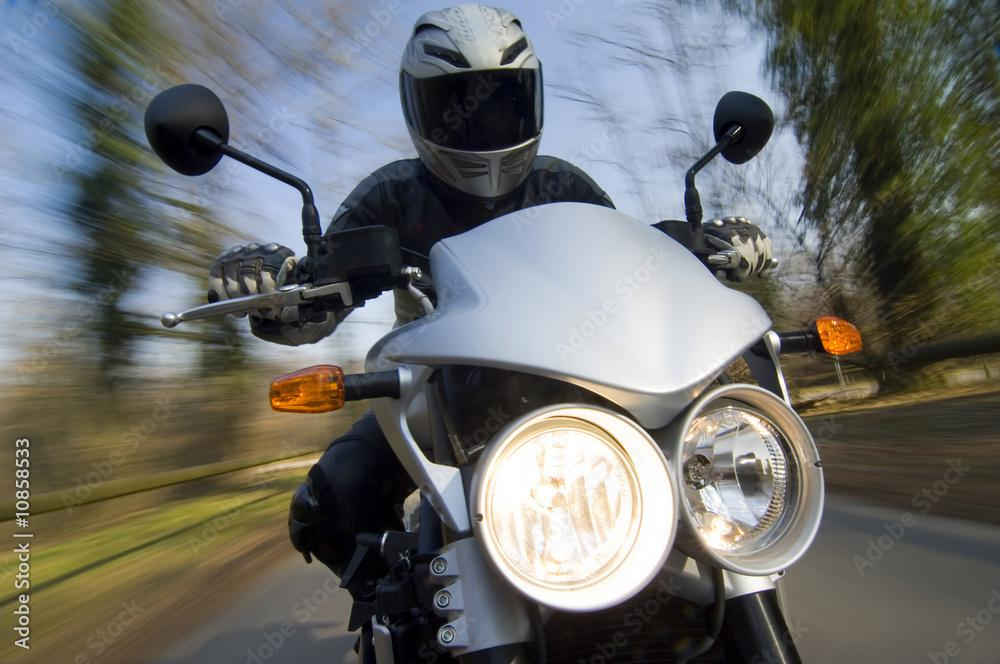helmet: (398, 2, 545, 203)
